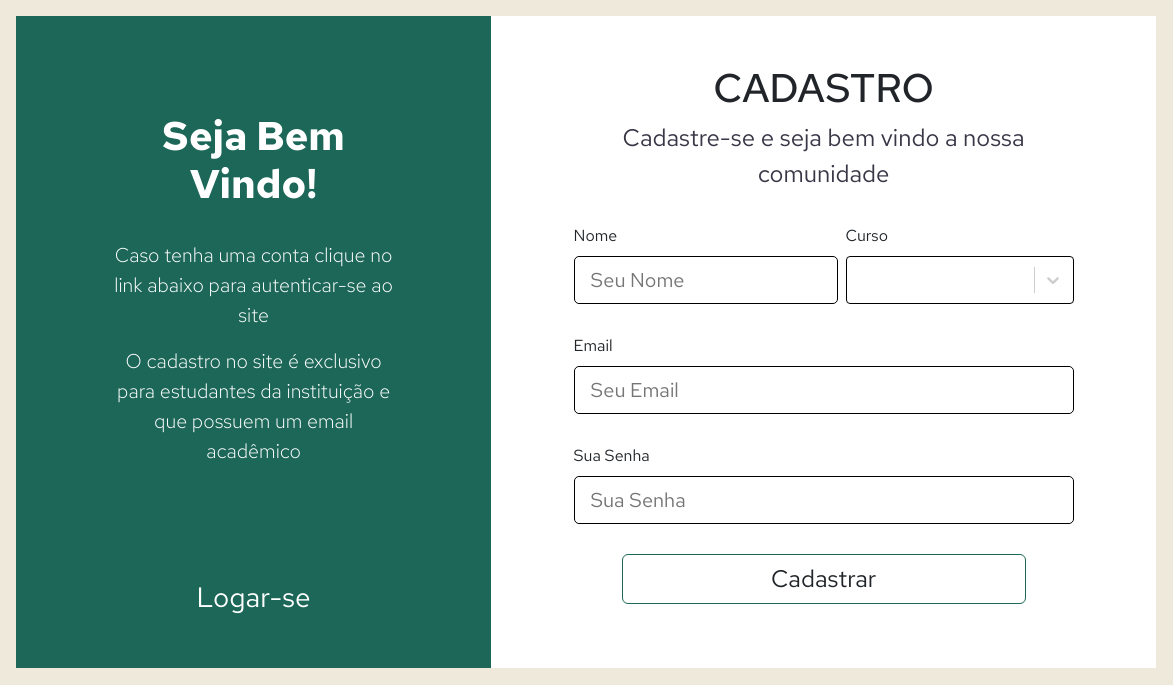
Test case: Register Component › shows error message when form is submitted without filling required fields
This screenshot has width=1173, height=685.
Click the button "Cadastrar" at (824, 579), box [622,554,1026,604]
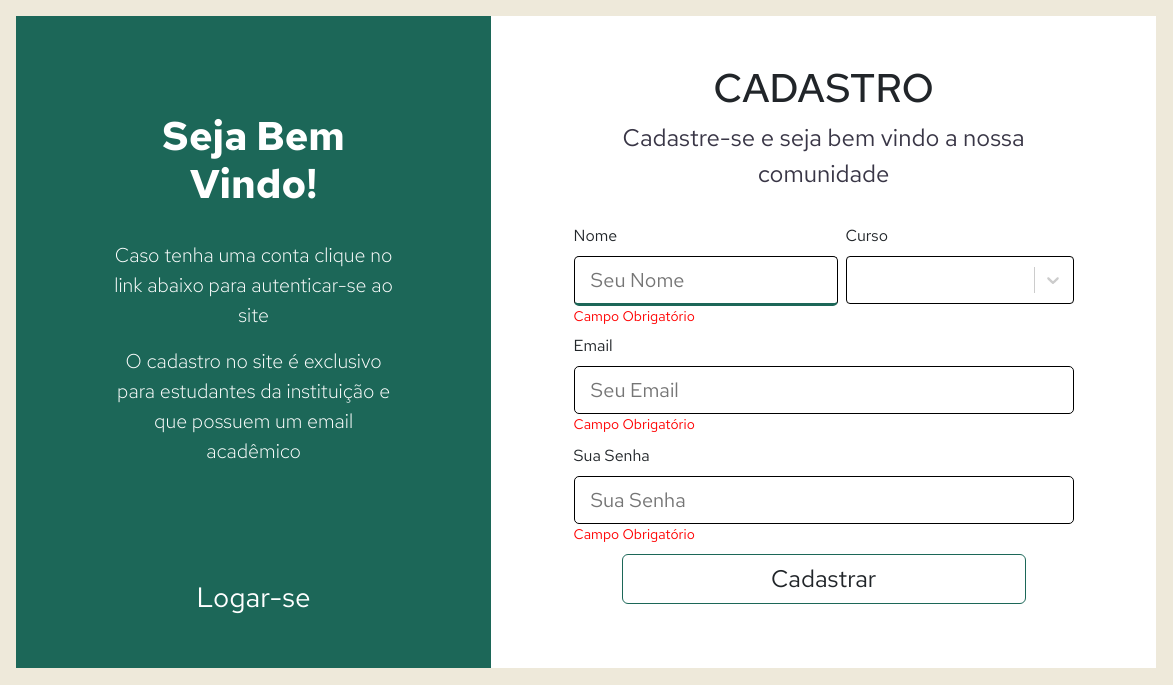
Expected: the text "Campo Obrigatório" is shown 3 times, [574,307,695,325]; [574,415,695,433]; [574,525,695,543]
